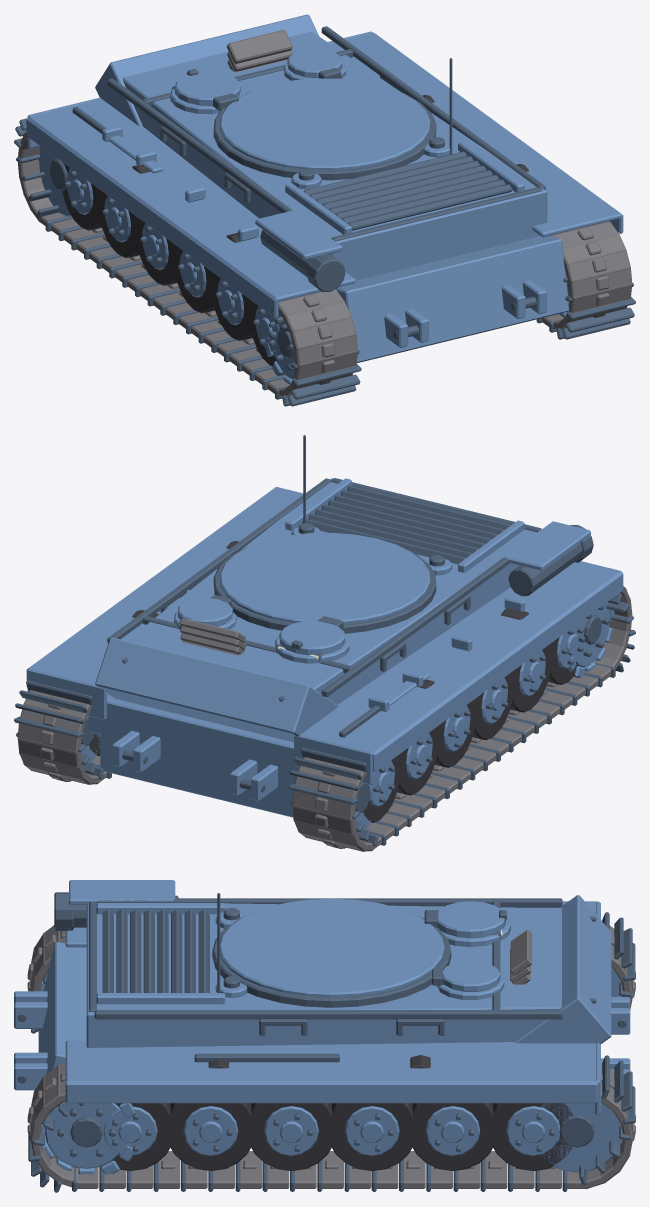
File: tank.glb
The picture shows the model from 3 angles, top to bottom: view 1: azimuth 30°, elevation 25°; view 2: azimuth 150°, elevation 25°; view 3: azimuth 270°, elevation 25°; orthographic projection. The views are drawn at different scales.
Visible parts, largest first — view 1: Hull; view 2: Hull; view 3: Hull.
Part boxes in pixels (x1,y1,x2,y2): Hull: [14, 14, 635, 406]; Hull: [14, 478, 635, 851]; Hull: [14, 880, 635, 1192].
Size of the model in its own units: 2.68 by 1.71 by 3.86.
